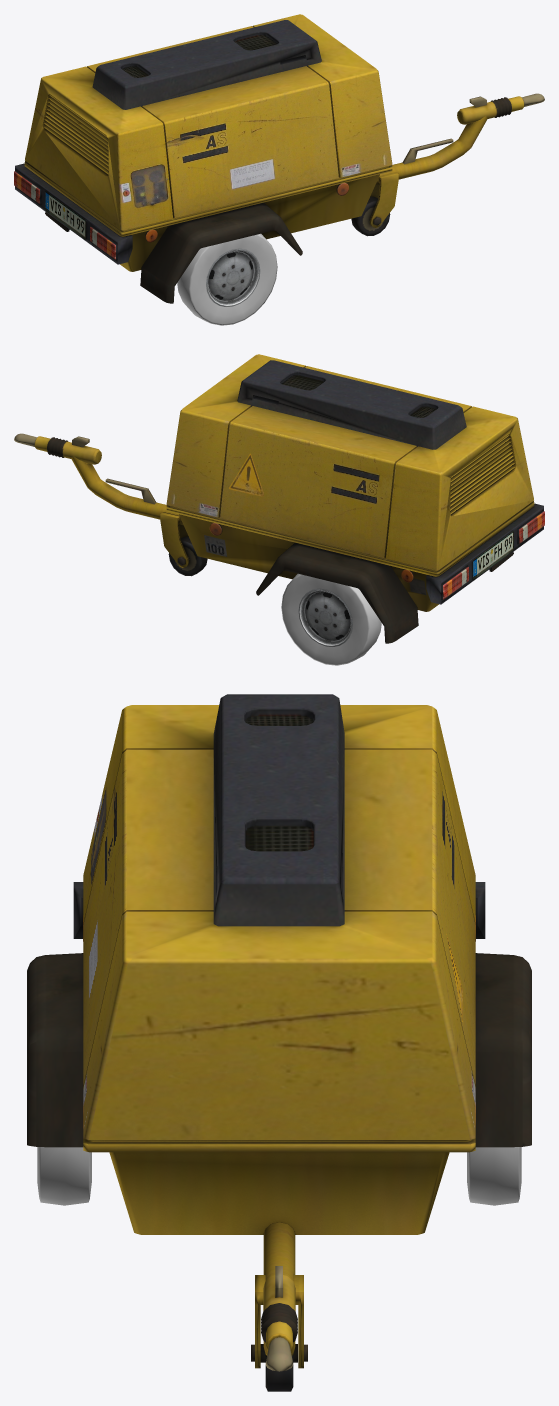
File: compressor.FBX
The picture shows the model from 3 angles, top to bottom: view 1: azimuth 30°, elevation 25°; view 2: azimuth 150°, elevation 25°; view 3: azimuth 270°, elevation 25°; orthographic projection. The views are drawn at different scales.
Parts seen in each view (by area): view 1: compressor_body, compressor_wheels; view 2: compressor_body, compressor_wheels; view 3: compressor_body, compressor_wheels.
Boxes of the visible parts, x1,y1,x2,y2 form: compressor_body: (14, 14, 544, 303); compressor_wheels: (177, 233, 277, 325); compressor_body: (14, 354, 544, 643); compressor_wheels: (281, 573, 381, 665); compressor_body: (27, 694, 531, 1391); compressor_wheels: (37, 1147, 521, 1205).
Bounding box in the file's own units: 137 × 60.24 × 62.32.
